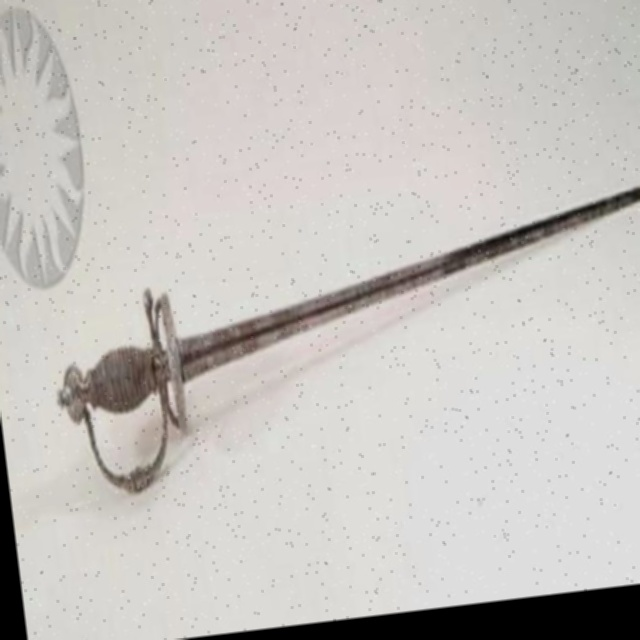Sharp-Object: (105, 174, 640, 440)
